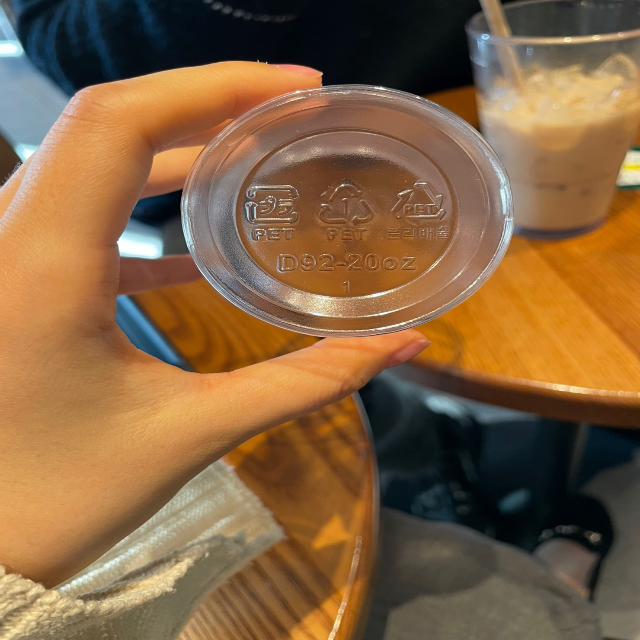pet: (386, 180, 456, 246), (241, 177, 305, 244), (316, 177, 374, 243)
